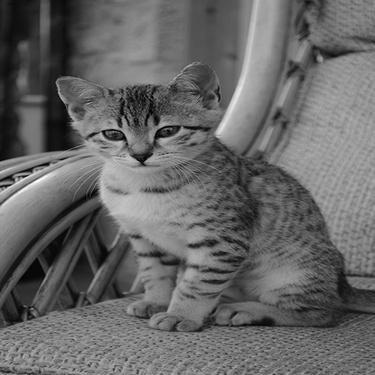cat: (51, 58, 369, 333)
